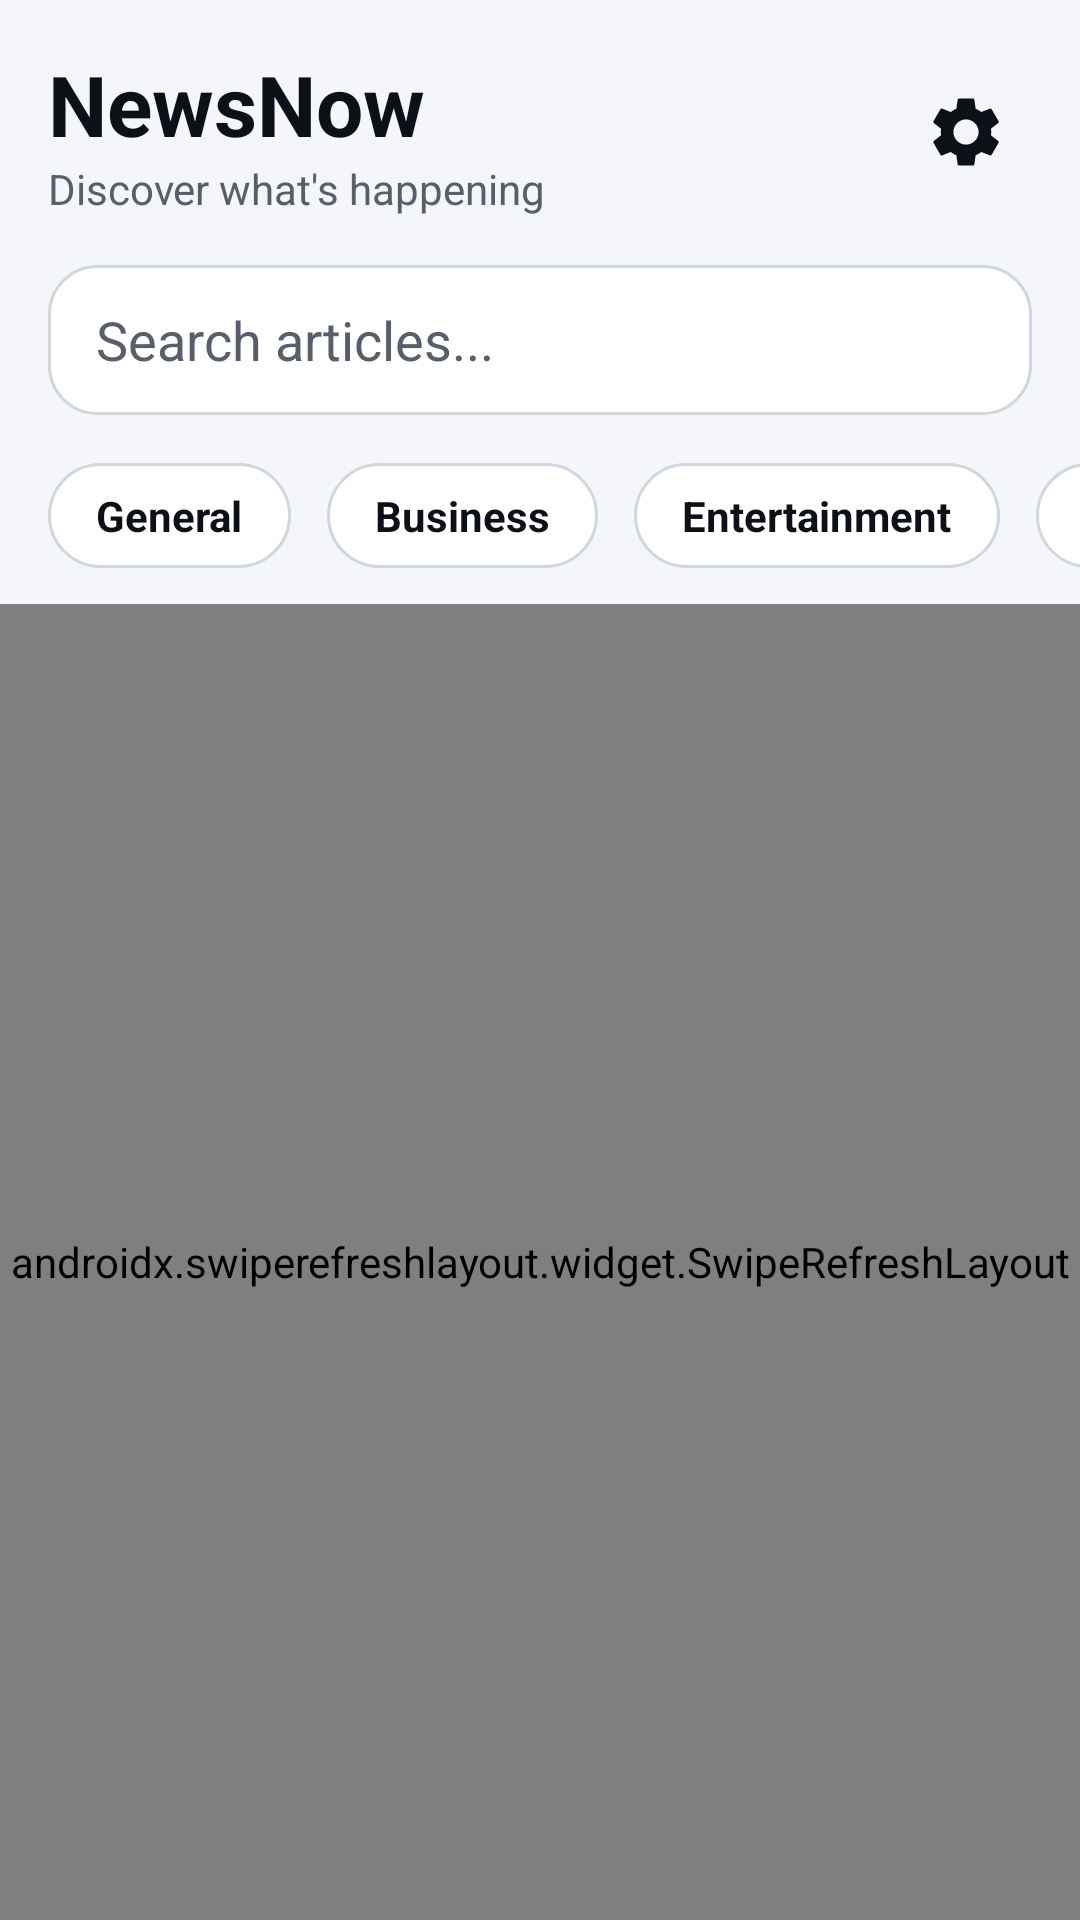

Where to tap for icons on this 1080×1920 app screen, as [x,y]:
Settings: [966,132]
